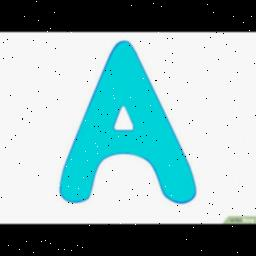a: (56, 37, 202, 213)
